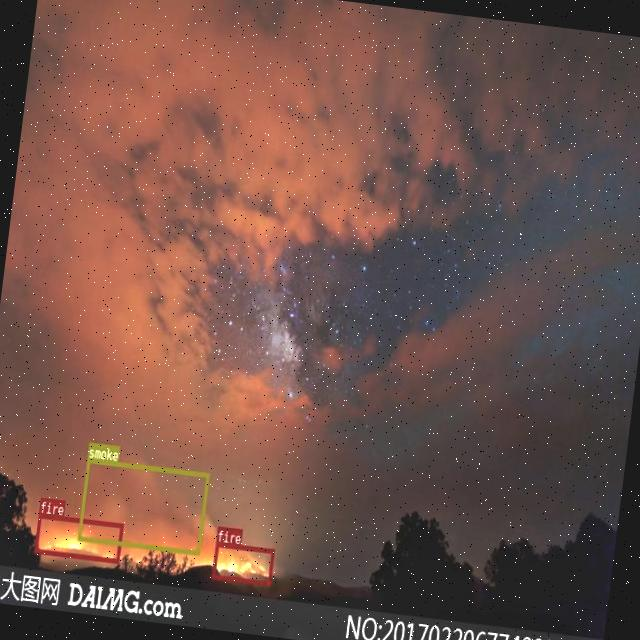fire: (33, 512, 122, 562), (211, 541, 274, 585)
smoke: (76, 458, 208, 554)
